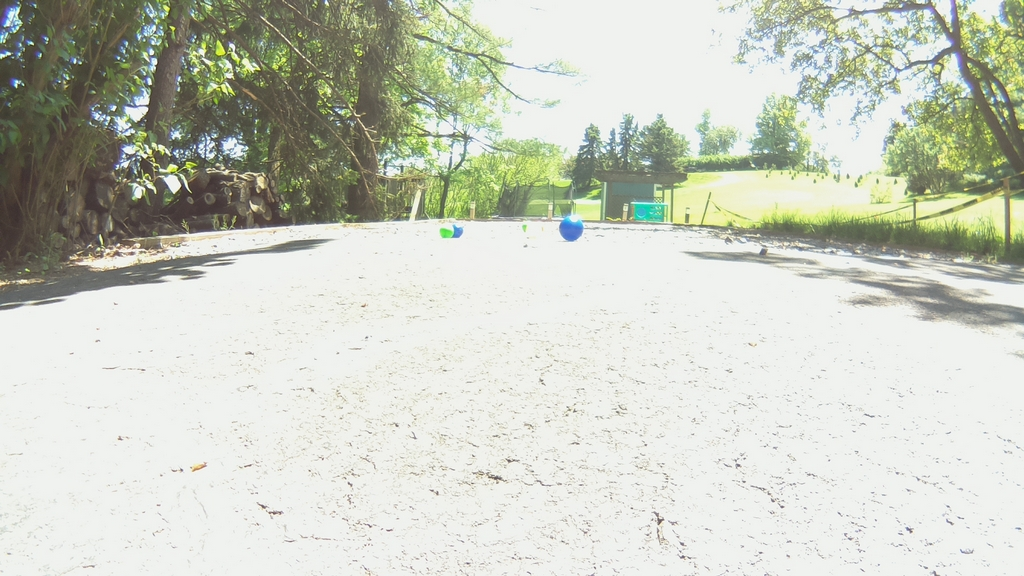ball: (560, 215, 584, 242)
